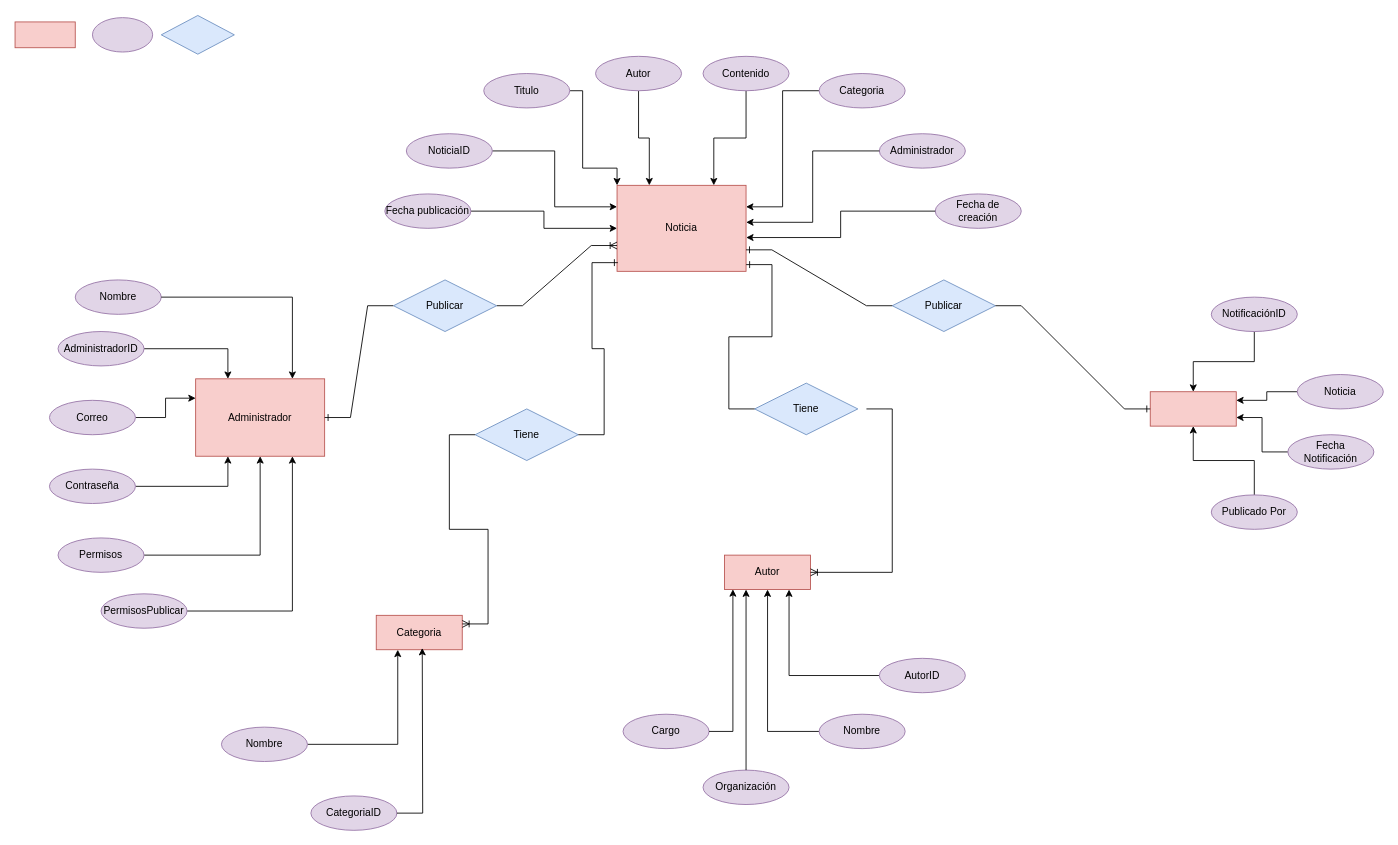
Image size: 1398x845. Some labels were removed from this diagram. Here are the shapes that lost their labels. From the top down, the centre of each, then its label:
the point at 44,34: Entidad
the point at 122,34: Atributo
the point at 197,34: Relación
the point at 1192,408: Notificación
